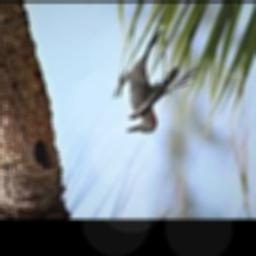Woodpecker: (112, 30, 200, 132)
